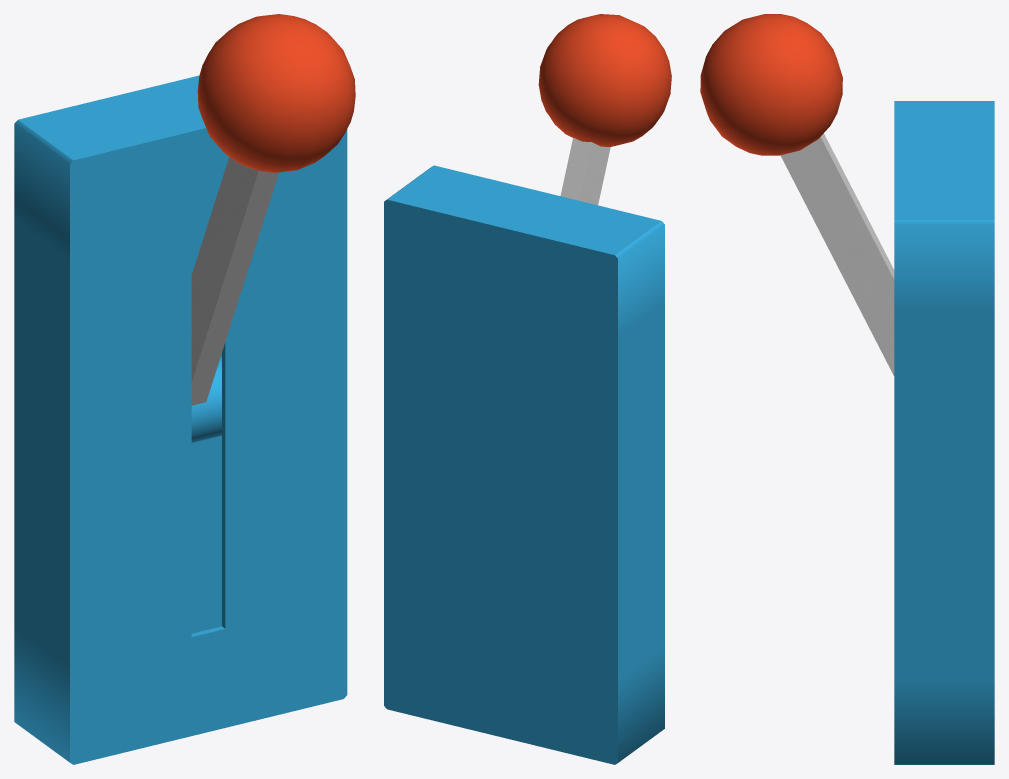
3 views of the same model, side by side, from view 1: azimuth 30°, elevation 25°; view 2: azimuth 150°, elevation 25°; view 3: azimuth 270°, elevation 25° (orthographic). The views are drawn at different scales.
Visible parts, largest first — view 1: Lever; view 2: Lever; view 3: Lever.
Part boxes in pixels (bbox=[...]): Lever: bbox=[14, 14, 355, 764]; Lever: bbox=[384, 14, 671, 764]; Lever: bbox=[700, 14, 994, 764].
Bounding box in the file's own units: 0.1153 × 0.3017 × 0.1174.
Materials: 1 (1 with a texture image).
